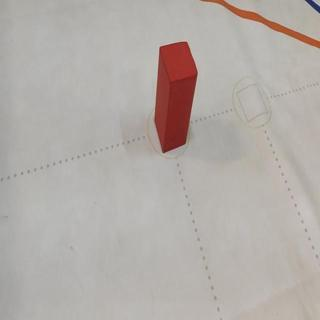redbox: (154, 39, 198, 155)
